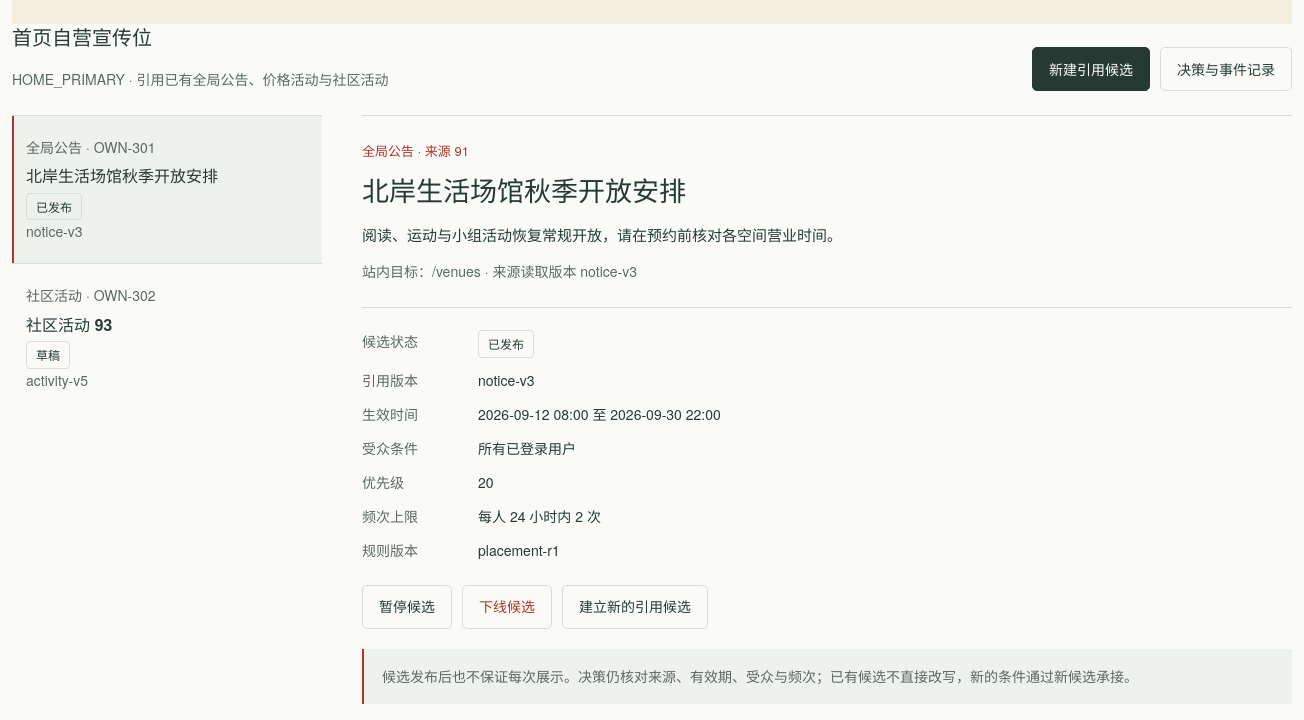
Test: 自营宣传面（B5-G2/G3/G4 一比一重建） › 暂停后回到 DRAFT 门禁（发布可见）
Click the button with test id "pl-pause": coordinates (407, 606) [362, 584, 452, 628]
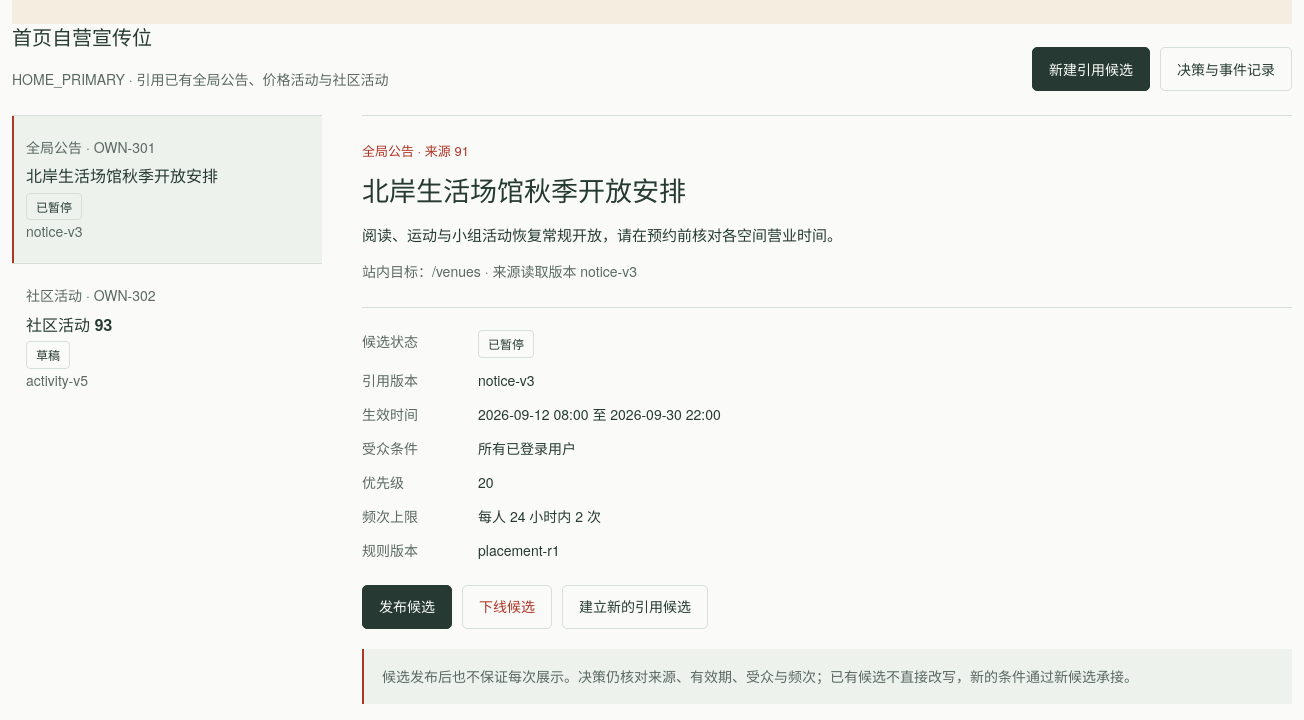
expect the button with test id "pl-publish" is shown: met, box [362, 584, 452, 628]
